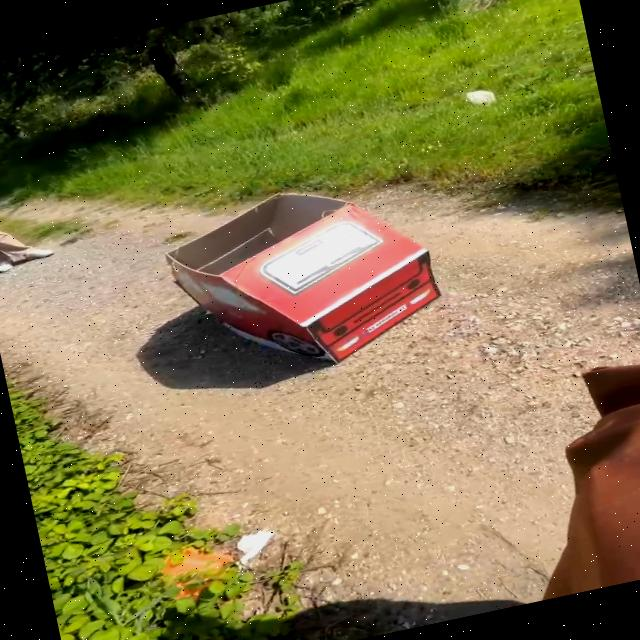red_car: (131, 154, 470, 413)
